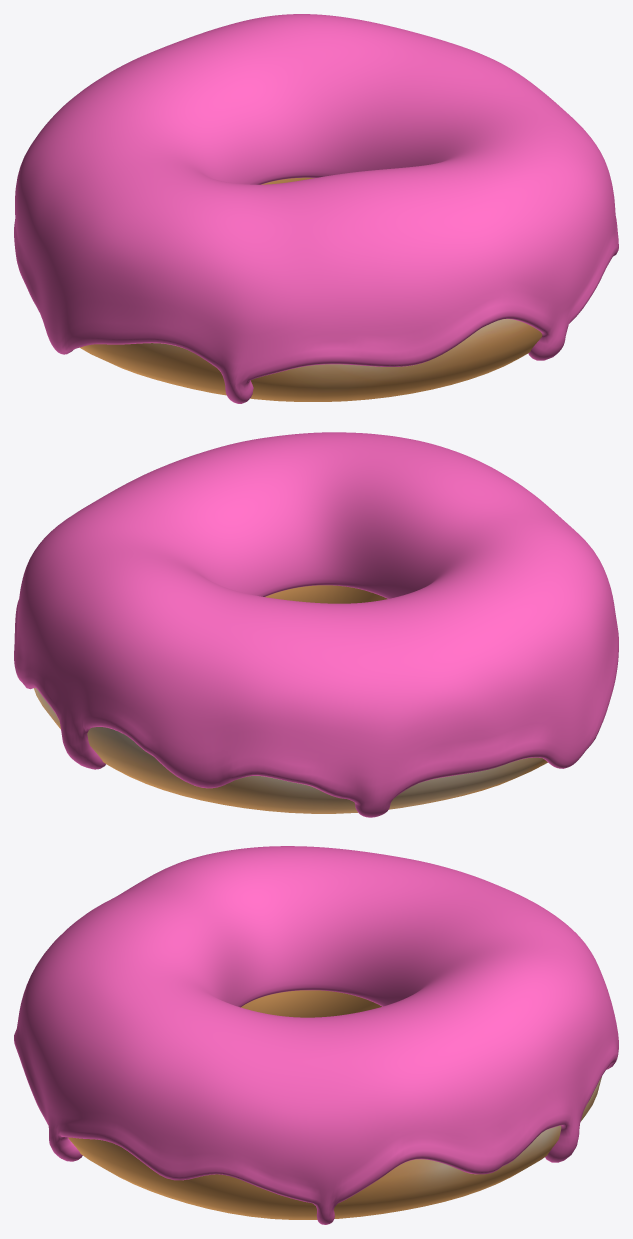
Rendered from donut.glb.
3 renders of one model, top to bottom at view 1: azimuth 30°, elevation 25°; view 2: azimuth 150°, elevation 25°; view 3: azimuth 270°, elevation 25°, orthographic.
Visible parts, largest first — view 1: icing, Torus.001; view 2: icing, Torus.001; view 3: icing, Torus.001.
Part boxes in pixels (left/top/right/bottom): icing: left=14, top=14, right=618, bottom=403; Torus.001: left=80, top=177, right=542, bottom=401; icing: left=14, top=432, right=618, bottom=817; Torus.001: left=34, top=585, right=547, bottom=813; icing: left=14, top=846, right=618, bottom=1224; Torus.001: left=68, top=990, right=601, bottom=1219.
Bounding box in the file's own units: 1.46 × 0.5243 × 1.46.
2 materials, 1 textured.
